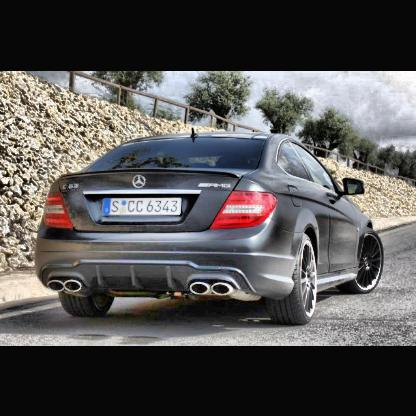Mercedes-Benz C-Class Sedan 2012: (37, 128, 386, 327)
